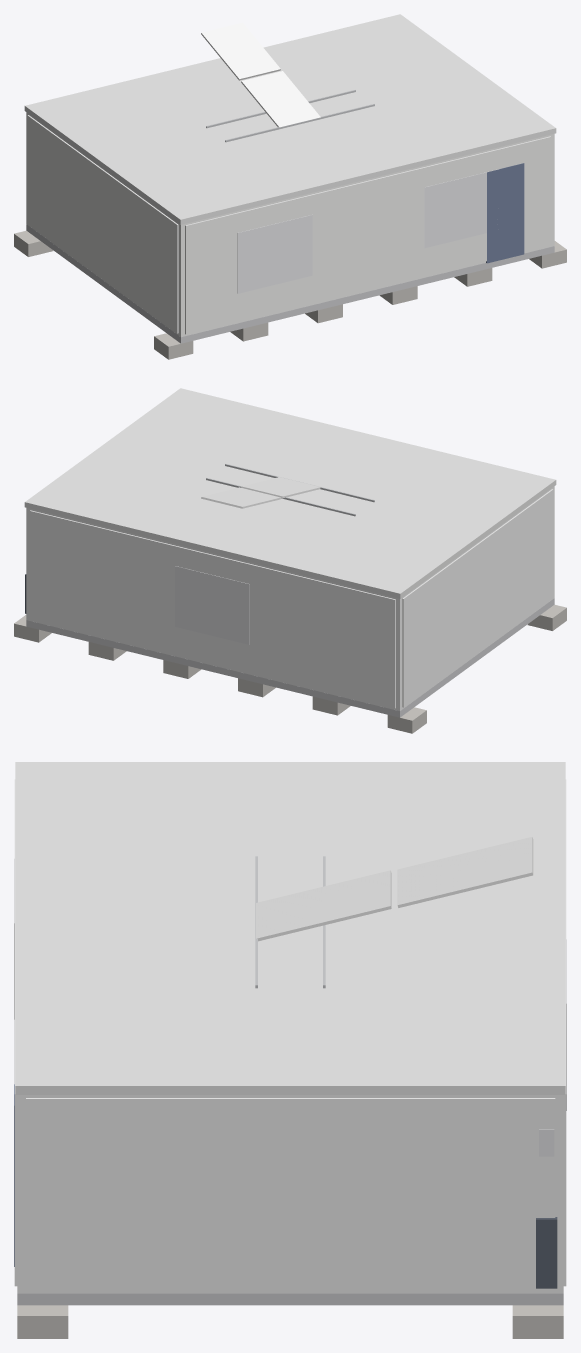
Rendered from Studio-30-Premium+FullSolar-LOD1.glb.
3 renders of one model, top to bottom at view 1: azimuth 30°, elevation 25°; view 2: azimuth 150°, elevation 25°; view 3: azimuth 270°, elevation 25°, orthographic. The views are drawn at different scales.
Parts seen in each view (by area): view 1: RoofMain, ExteriorPanelsPremium, WindowsLargeUpgrade, SolarPanelArray, BaseFrame, FoundationBlocks, EntryDoor, ExteriorShell, SolarMountingHardware; view 2: RoofMain, ExteriorPanelsPremium, WindowsLargeUpgrade, BaseFrame, FoundationBlocks, ExteriorShell, SolarPanelArray, SolarMountingHardware; view 3: RoofMain, ExteriorPanelsPremium, SolarPanelArray, BaseFrame, ExteriorShell, FoundationBlocks, SolarBattery.
Boxes of the visible parts, x1,y1,x2,y2 form: RoofMain: (24, 14, 556, 224); ExteriorPanelsPremium: (27, 115, 551, 334); WindowsLargeUpgrade: (237, 169, 498, 293); SolarPanelArray: (201, 22, 320, 127); BaseFrame: (26, 224, 554, 343); FoundationBlocks: (14, 230, 566, 359); EntryDoor: (486, 163, 524, 263); ExteriorShell: (26, 112, 554, 336); SolarMountingHardware: (206, 90, 374, 142); RoofMain: (24, 388, 556, 598); ExteriorPanelsPremium: (30, 489, 553, 708); WindowsLargeUpgrade: (175, 566, 249, 644); BaseFrame: (26, 598, 554, 717); FoundationBlocks: (14, 604, 566, 733); ExteriorShell: (26, 486, 554, 710); SolarPanelArray: (201, 477, 320, 508); SolarMountingHardware: (206, 464, 374, 516); RoofMain: (15, 762, 565, 1094); ExteriorPanelsPremium: (14, 779, 566, 1290); SolarPanelArray: (256, 837, 533, 941); BaseFrame: (17, 1293, 563, 1305); ExteriorShell: (17, 1095, 563, 1293); FoundationBlocks: (17, 1305, 563, 1338); SolarBattery: (536, 1217, 557, 1288).
Bounding box in the file's own units: 9.6 × 4.07 × 6.53.
